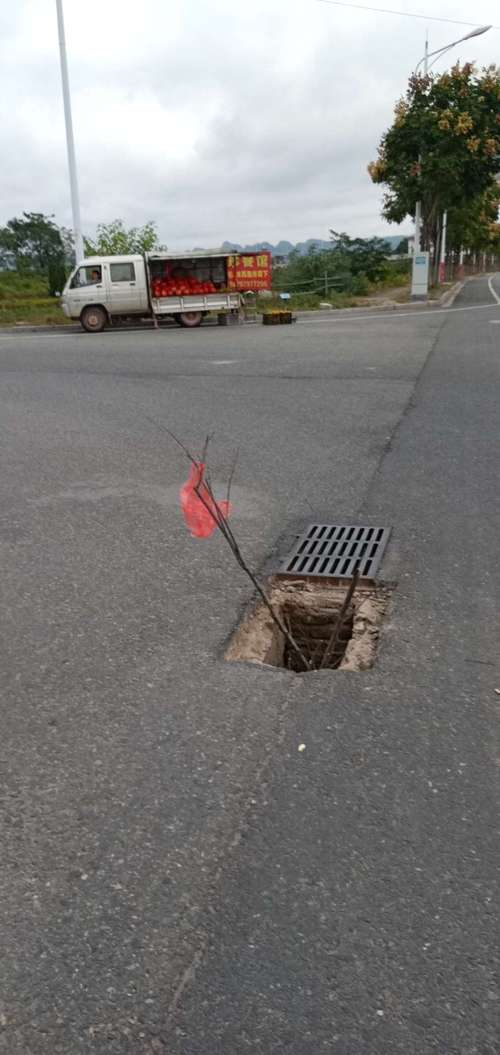lose: (182, 475, 435, 708)
